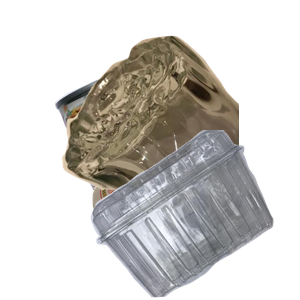glass: (60, 33, 300, 213)
metal: (52, 57, 260, 237)
plastic: (88, 130, 300, 300)
trash: (90, 129, 295, 300)
